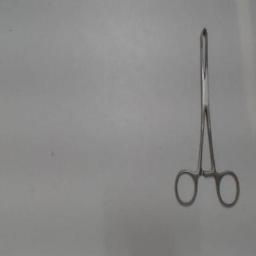Allis Tissue Forceps: (172, 20, 244, 212)
